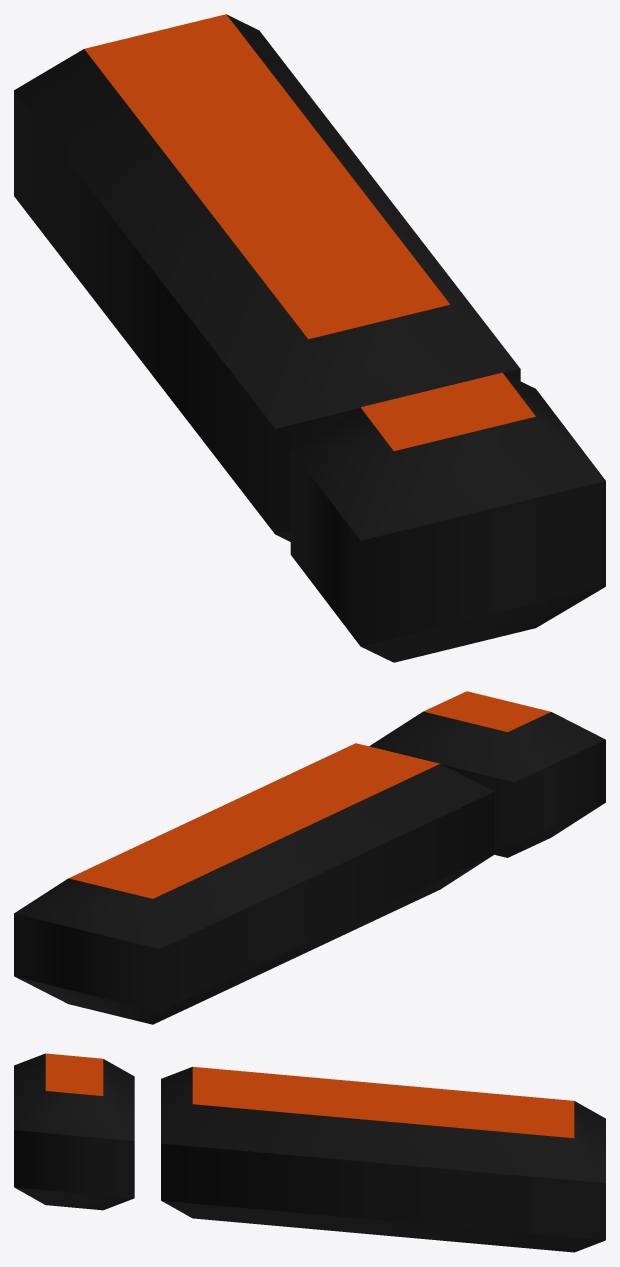
File: PointExclamation.fbx
3 renders of one model, top to bottom at view 1: azimuth 30°, elevation 25°; view 2: azimuth 150°, elevation 25°; view 3: azimuth 270°, elevation 25°, orthographic. The views are drawn at different scales.
Parts seen in each view (by area): view 1: Text; view 2: Text; view 3: Text.
Boxes of the visible parts, <box> form: Text: <box>14,14,605,662</box>; Text: <box>14,691,605,1024</box>; Text: <box>14,1053,605,1252</box>.
Size of the model in its own units: 0.3539 by 0.16 by 0.7517.
